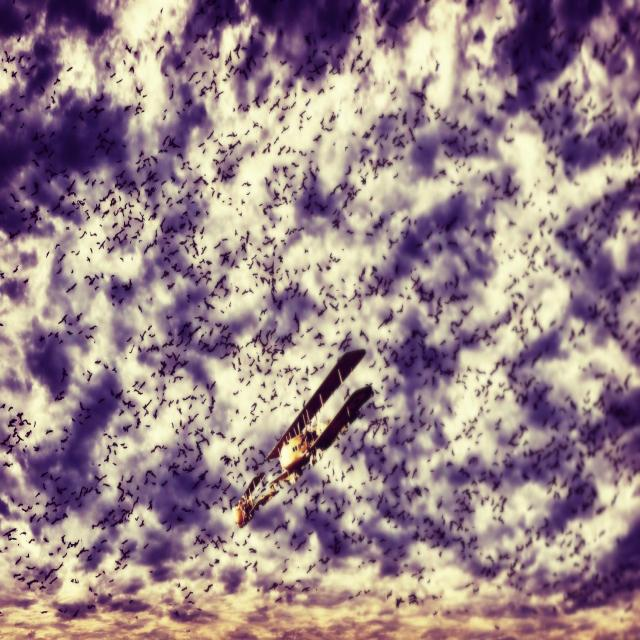airplane: (234, 347, 373, 528)
